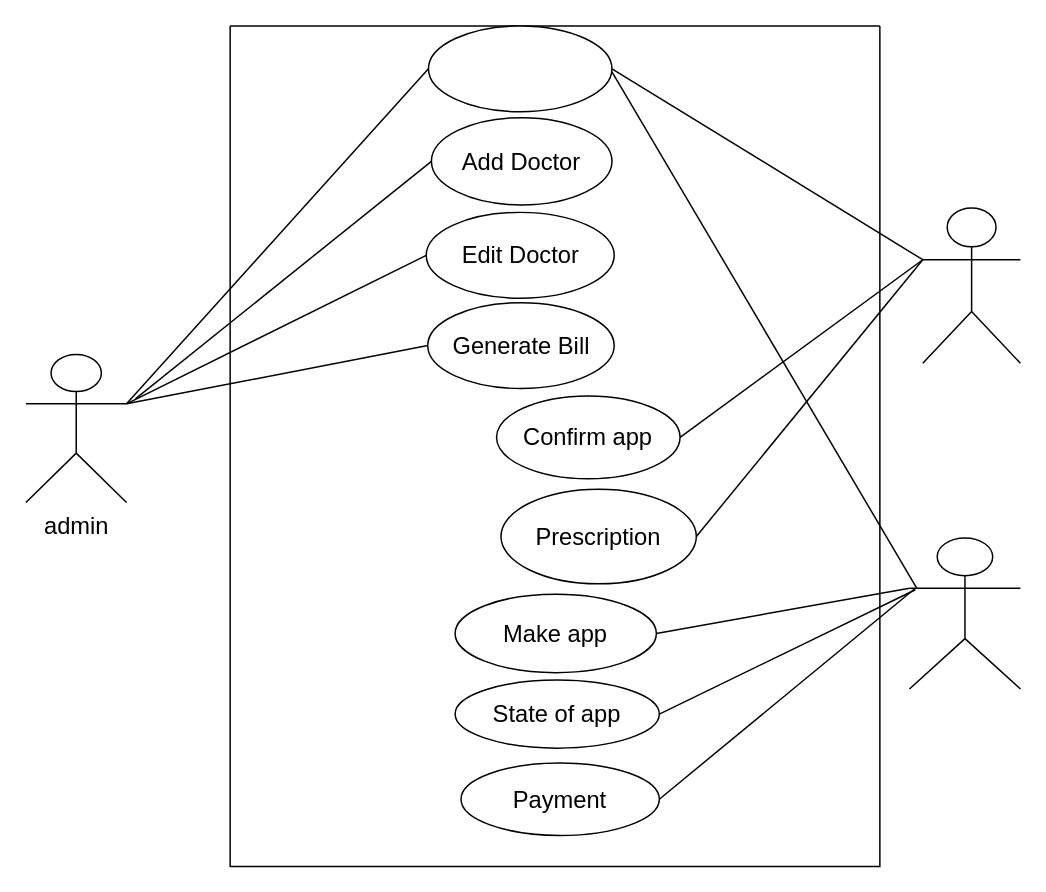
The diagram is 1046 pixels wide and 892 high, and some of its shapes have lost their labels. The shapes that lost their labels are listed below. From the top down, each one's centre as x and y in pixels, then its label:
At pixel 519 68: "Login".
At pixel 970 284: "Doctor".
At pixel 964 612: "Patient".
